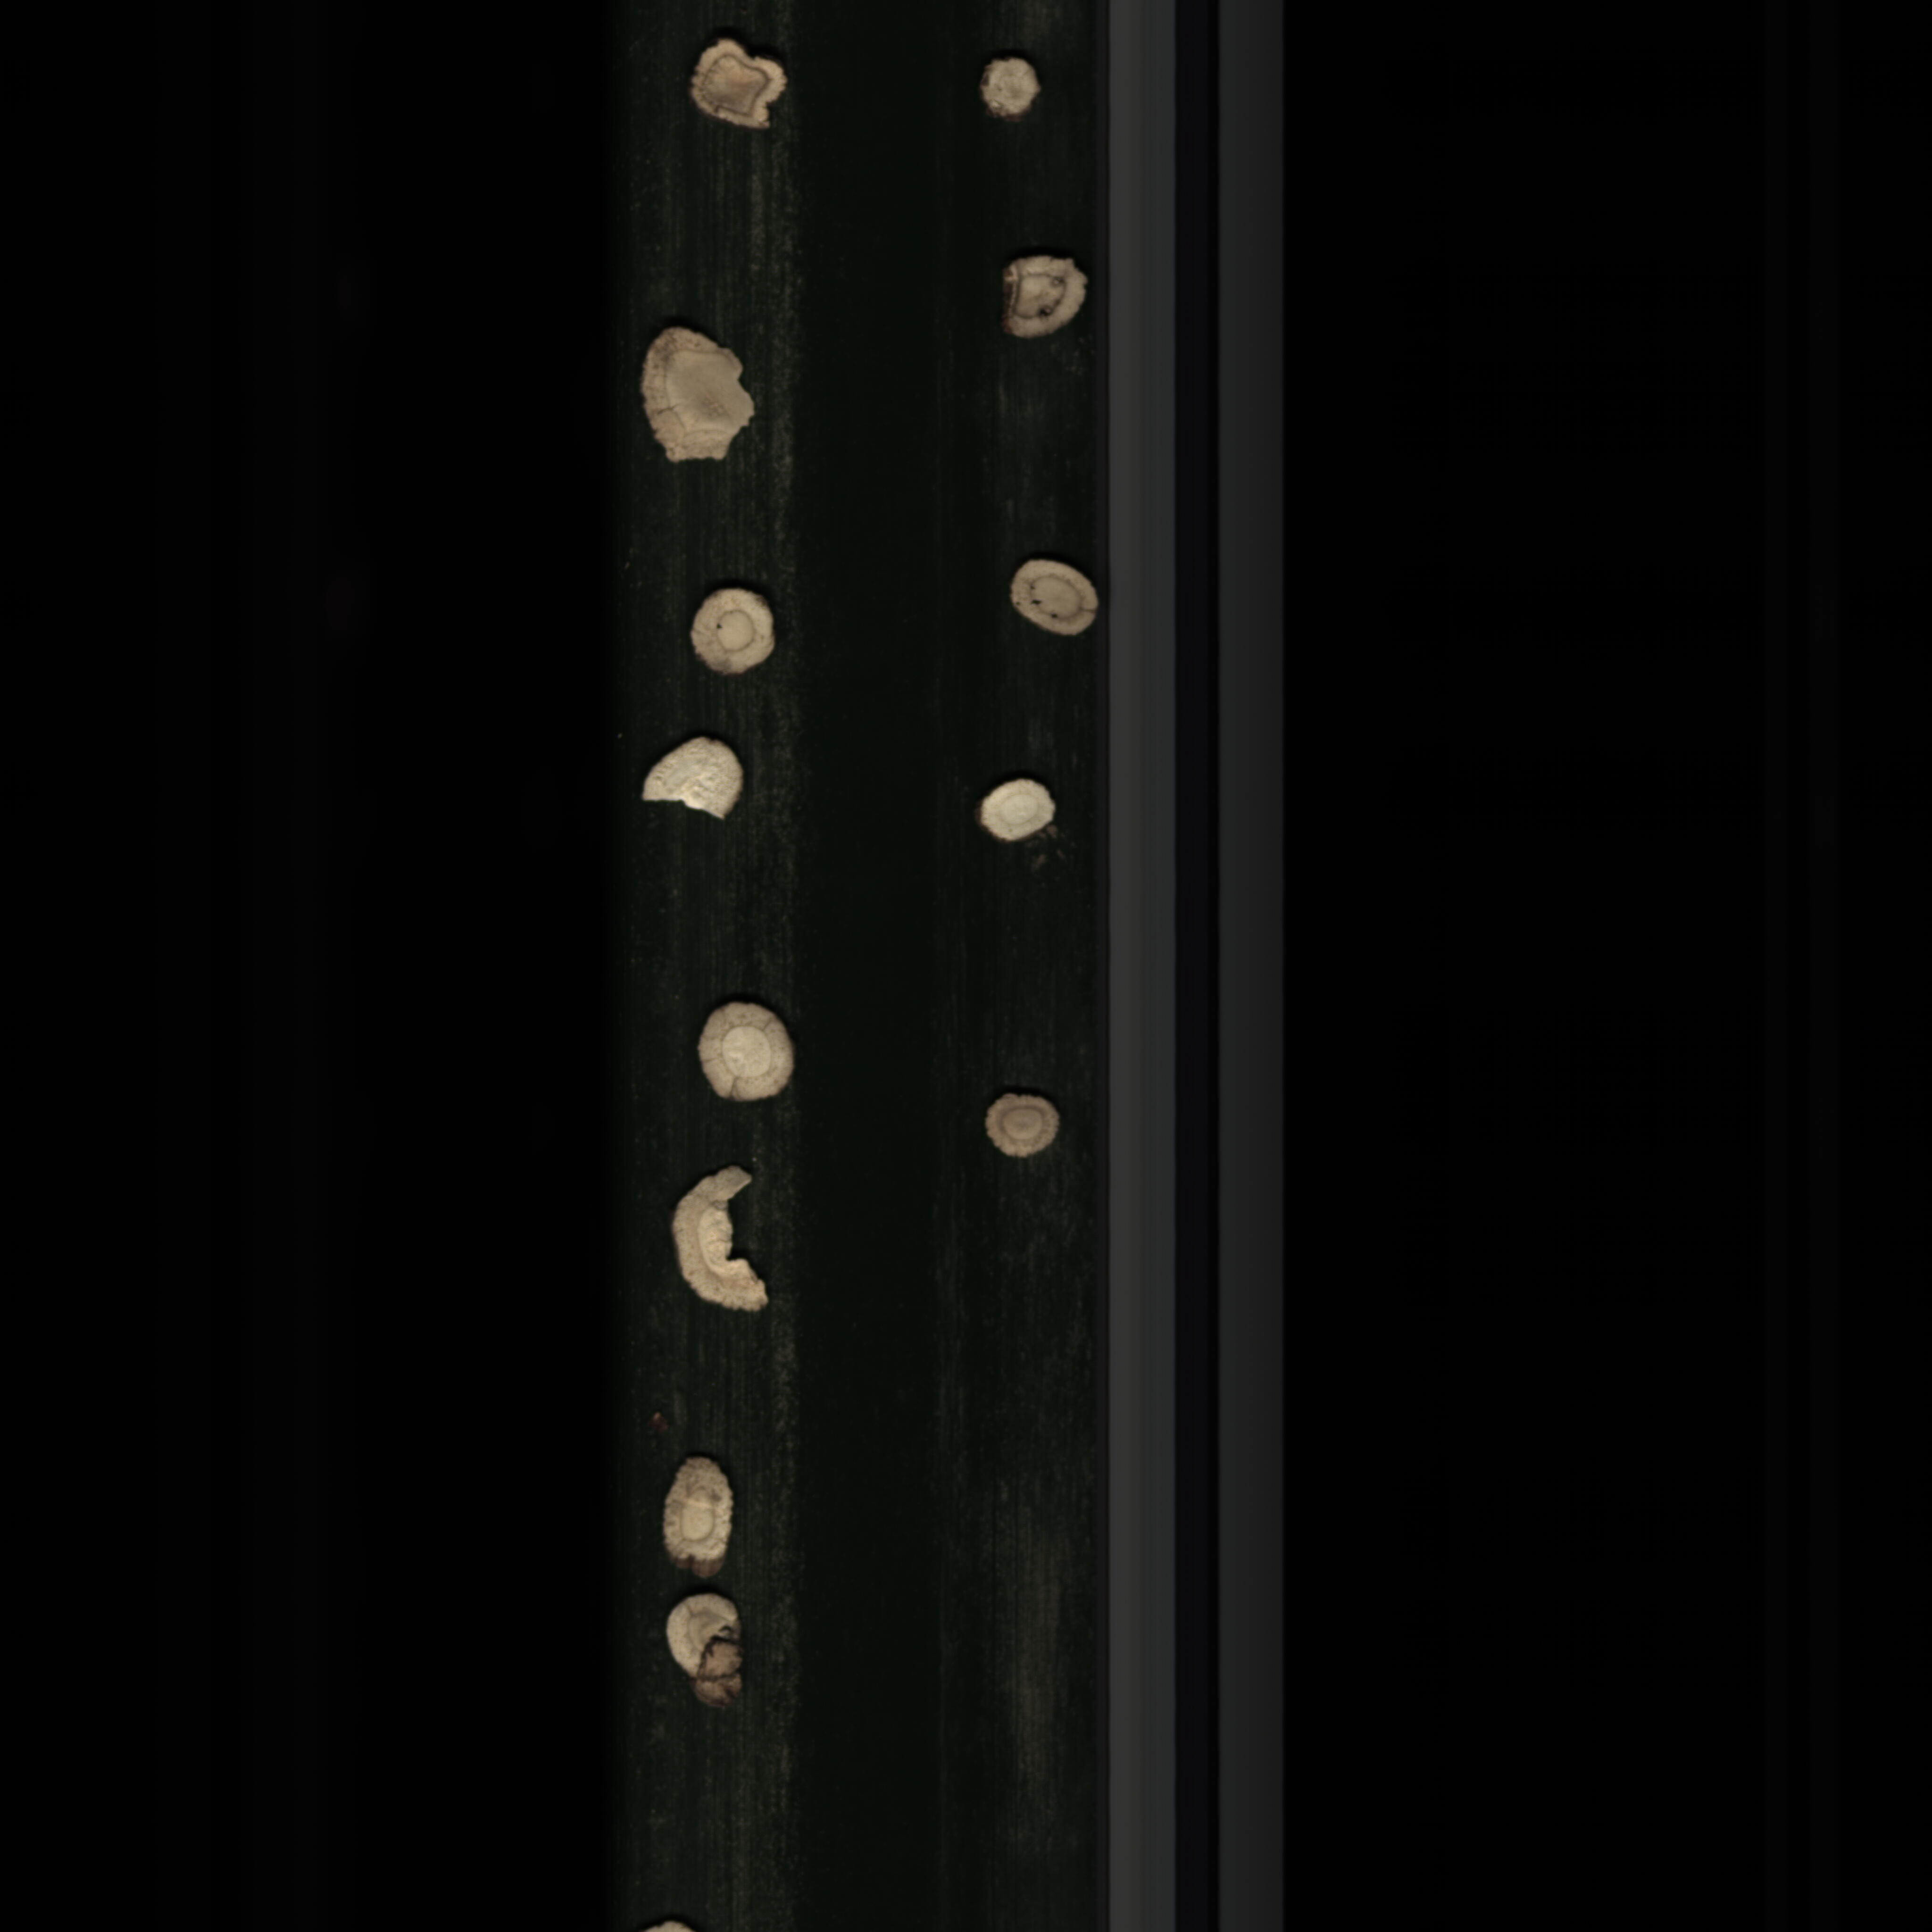bark: (655, 1591, 752, 1716)
debris: (658, 1161, 789, 1338), (635, 326, 766, 497), (637, 727, 745, 828)
distortion: (655, 1447, 741, 1582)
hole: (998, 550, 1111, 642)
moldy: (688, 34, 803, 145), (996, 244, 1093, 347)
